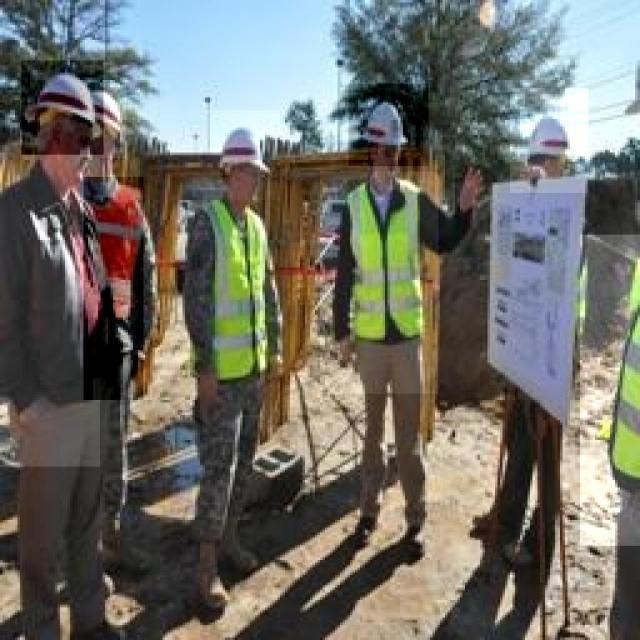Helmet: (0, 145, 100, 467), (510, 89, 588, 194), (22, 60, 104, 154), (205, 110, 280, 200), (348, 84, 428, 166), (88, 84, 126, 158)
Safety Vest: (320, 172, 438, 394), (177, 205, 285, 423), (580, 234, 640, 546), (84, 177, 144, 400)
